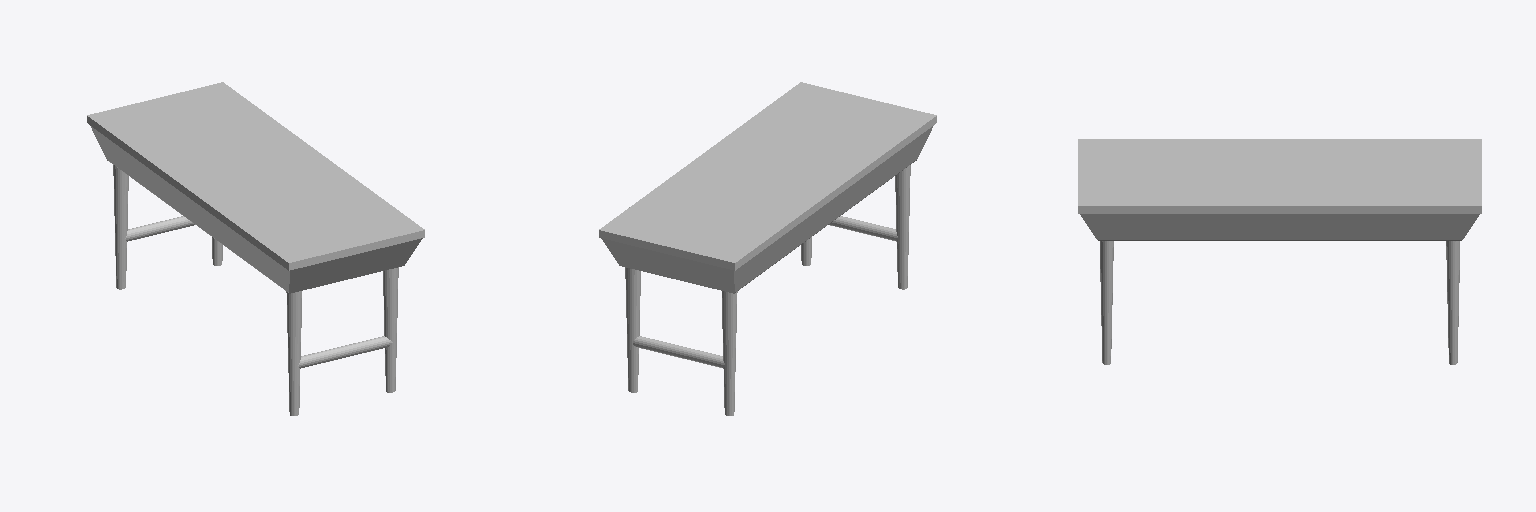
File: mesarectangular.obj
3 renders of one model, left to right at view 1: azimuth 30°, elevation 25°; view 2: azimuth 150°, elevation 25°; view 3: azimuth 270°, elevation 25°, orthographic.
Parts seen in each view (by area): view 1: mesarectangular:pasted__pCylinder2; view 2: mesarectangular:pasted__pCylinder2; view 3: mesarectangular:pasted__pCylinder2.
Part boxes in pixels (x1,y1,x2,y2): mesarectangular:pasted__pCylinder2: (87,82,424,415); mesarectangular:pasted__pCylinder2: (599,82,936,415); mesarectangular:pasted__pCylinder2: (1078,139,1481,364).
Bounding box in the file's own units: 0.6436 × 0.7517 × 1.65.